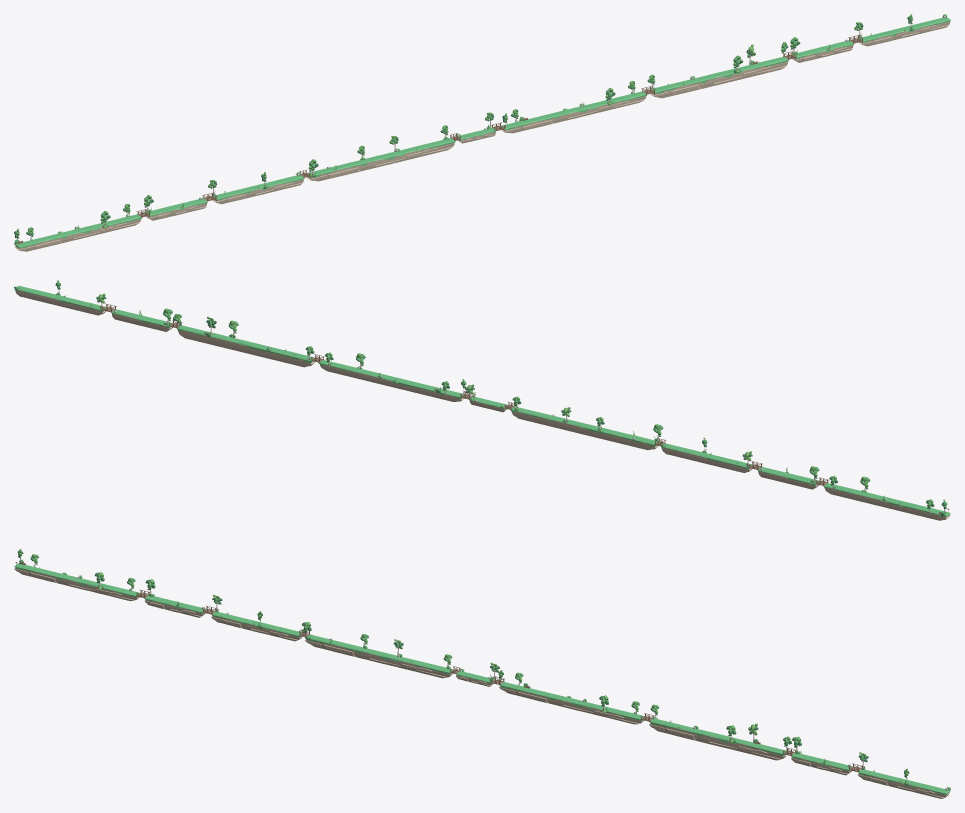
Rendered from Park_Map_lvl_6_LANG.fbx.
3 renders of one model, top to bottom at view 1: azimuth 30°, elevation 25°; view 2: azimuth 150°, elevation 25°; view 3: azimuth 330°, elevation 25°, orthographic.
Visible parts, largest first — view 1: polySurface6196; view 2: polySurface6196; view 3: polySurface6196.
Boxes of the visible parts, x1,y1,x2,y2 form: polySurface6196: [14, 14, 950, 251]; polySurface6196: [14, 280, 950, 520]; polySurface6196: [14, 549, 950, 798].
Bounding box in the file's own units: 899 × 25.76 × 14.78.
